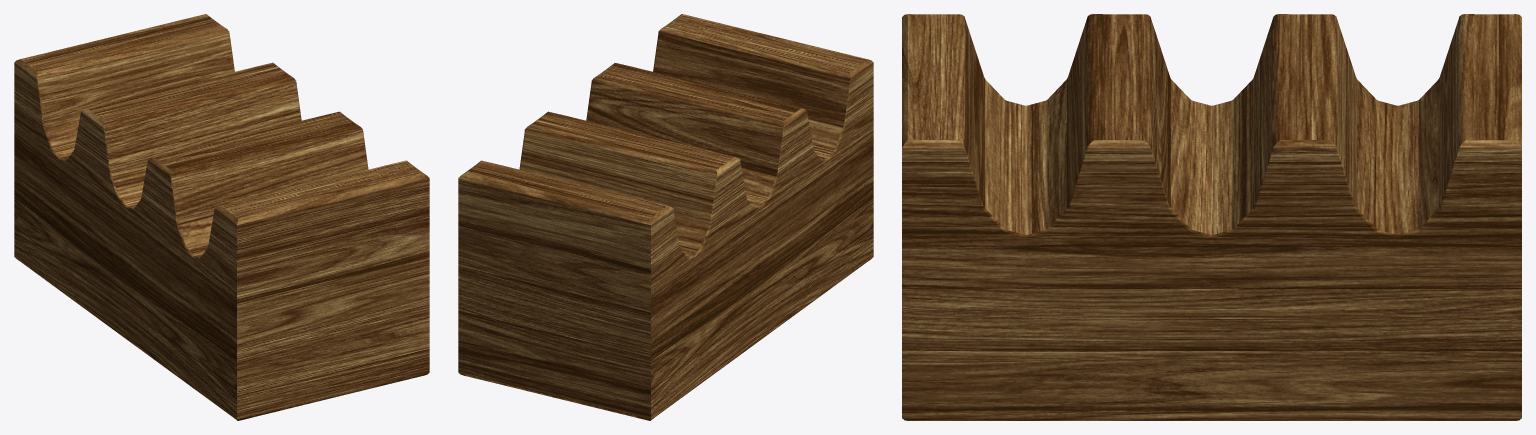
File: rowBlock.obj
3 views of the same model, side by side, from view 1: azimuth 30°, elevation 25°; view 2: azimuth 150°, elevation 25°; view 3: azimuth 270°, elevation 25° (orthographic). The views are drawn at different scales.
Visible parts, largest first — view 1: pCube1; view 2: pCube1; view 3: pCube1.
Boxes of the visible parts, x1,y1,x2,y2 form: pCube1: [14, 14, 429, 420]; pCube1: [458, 14, 873, 420]; pCube1: [902, 14, 1521, 420].
Bounding box in the file's own units: 100 × 100 × 200.
1 material, 1 textured.
